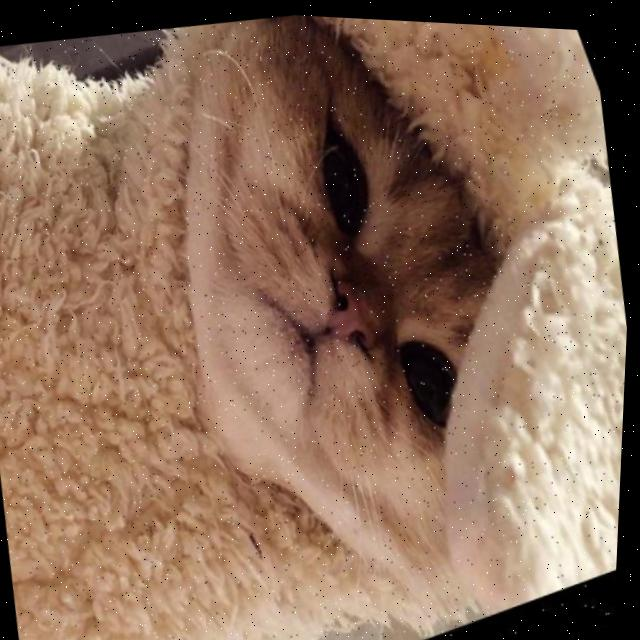Cats: (45, 3, 635, 640)
